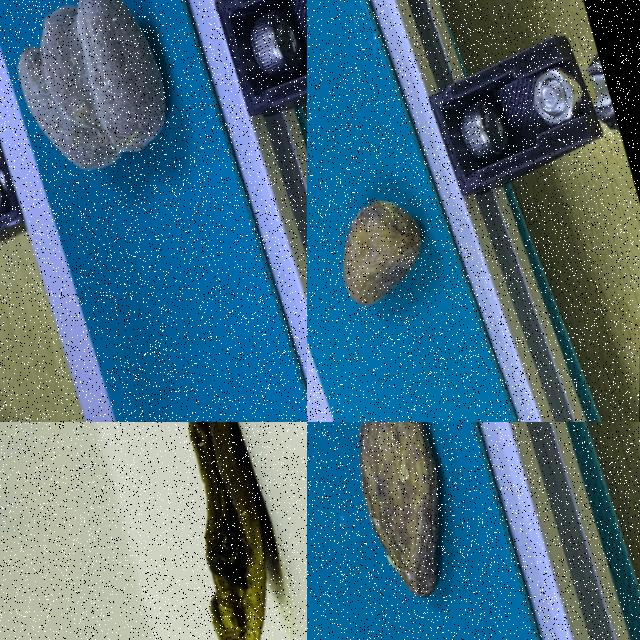Agglomerated_cocoabeans: (0, 0, 242, 254)
Fine_cocoabeans: (307, 55, 525, 421)
Flat_cocoabeans: (85, 422, 306, 639), (307, 422, 527, 639)
